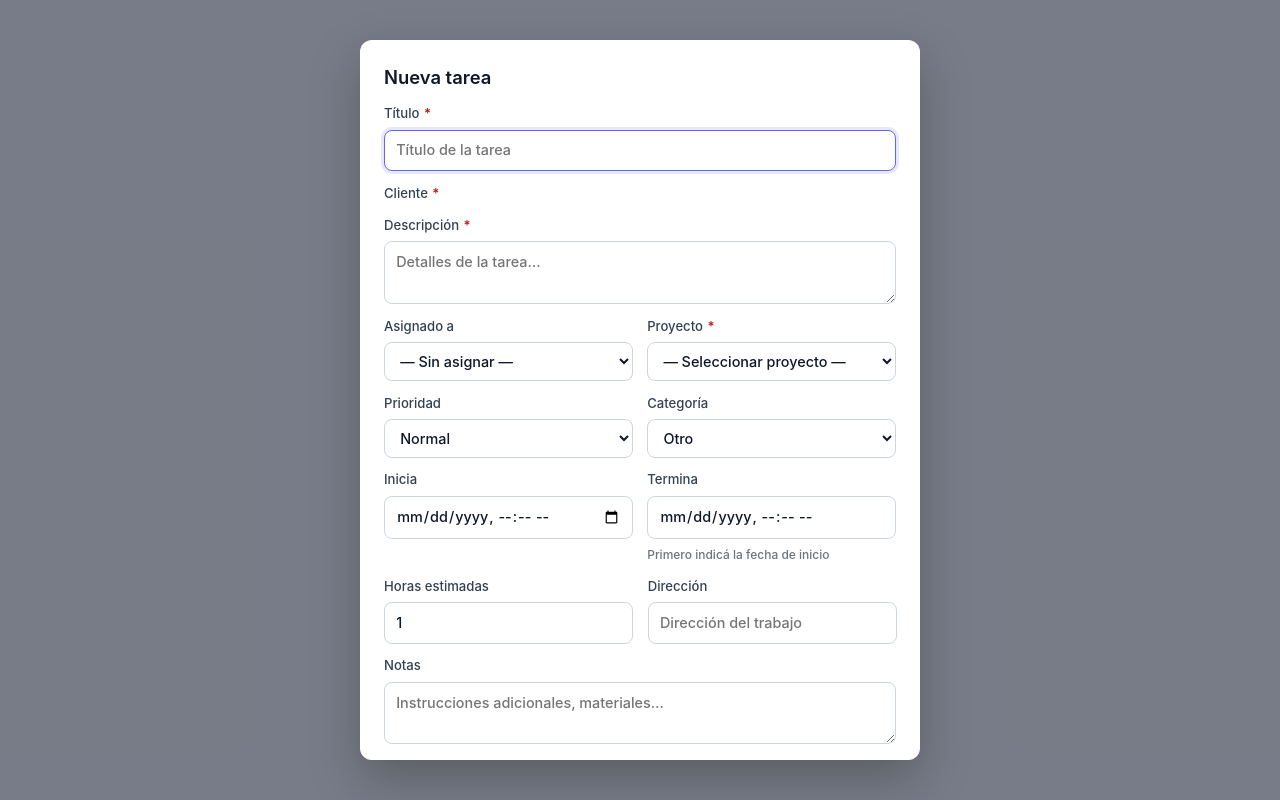
CreateTaskModal — endDate mirror behavior › (a) mirrors endDate = startDate + 1h on EVERY startDate change, not just the first
Note: First change — sets 09:00, should mirror endDate to 10:00
Type "2025-06-01T09:00" into the field labelled "Inicia" at (508, 517), box x1=384 y1=496 x2=633 y2=539
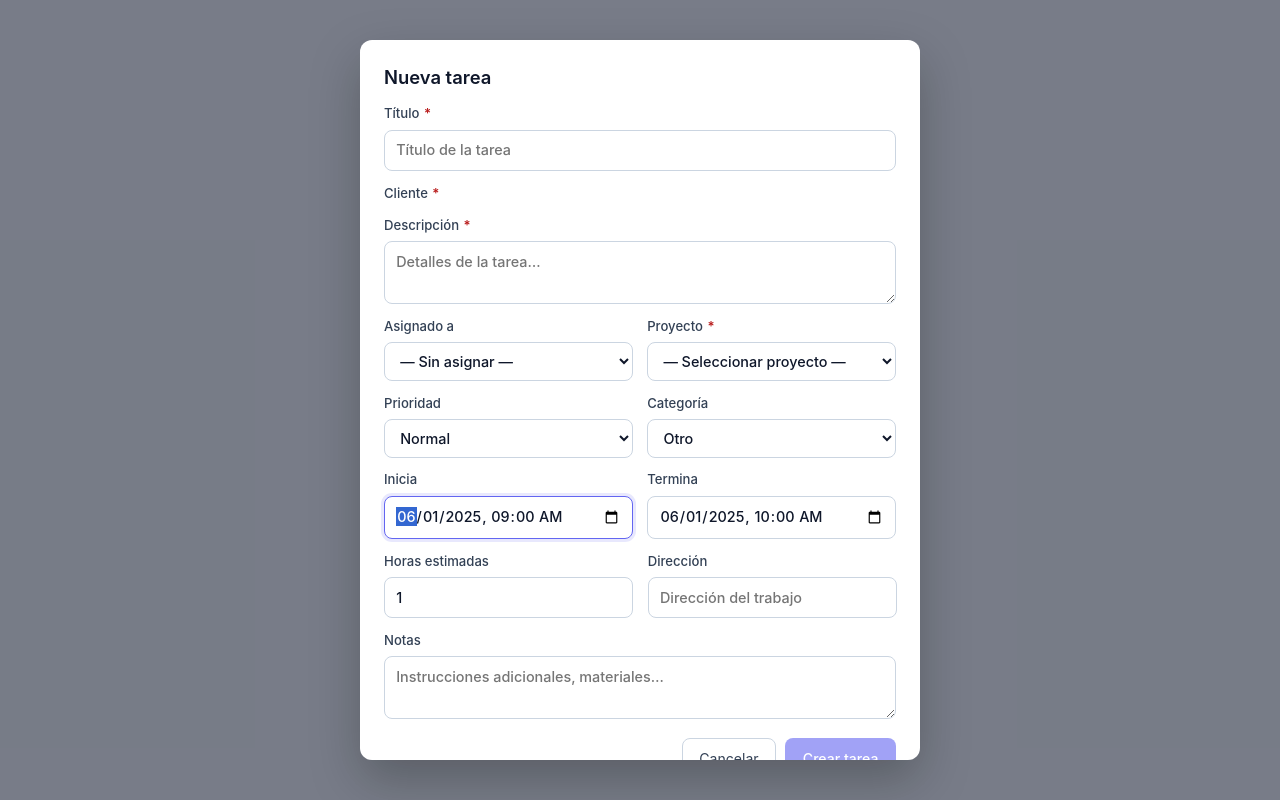
Now the field labelled "Termina" holds "2025-06-01T10:00", box x1=647 y1=496 x2=896 y2=539
Note: Second change — sets 14:00, should mirror endDate to 15:00 (NOT stuck at 10:00)
Replace the text in the field labelled "Inicia" with "2025-06-01T14:00" at (508, 517), box x1=384 y1=496 x2=633 y2=539
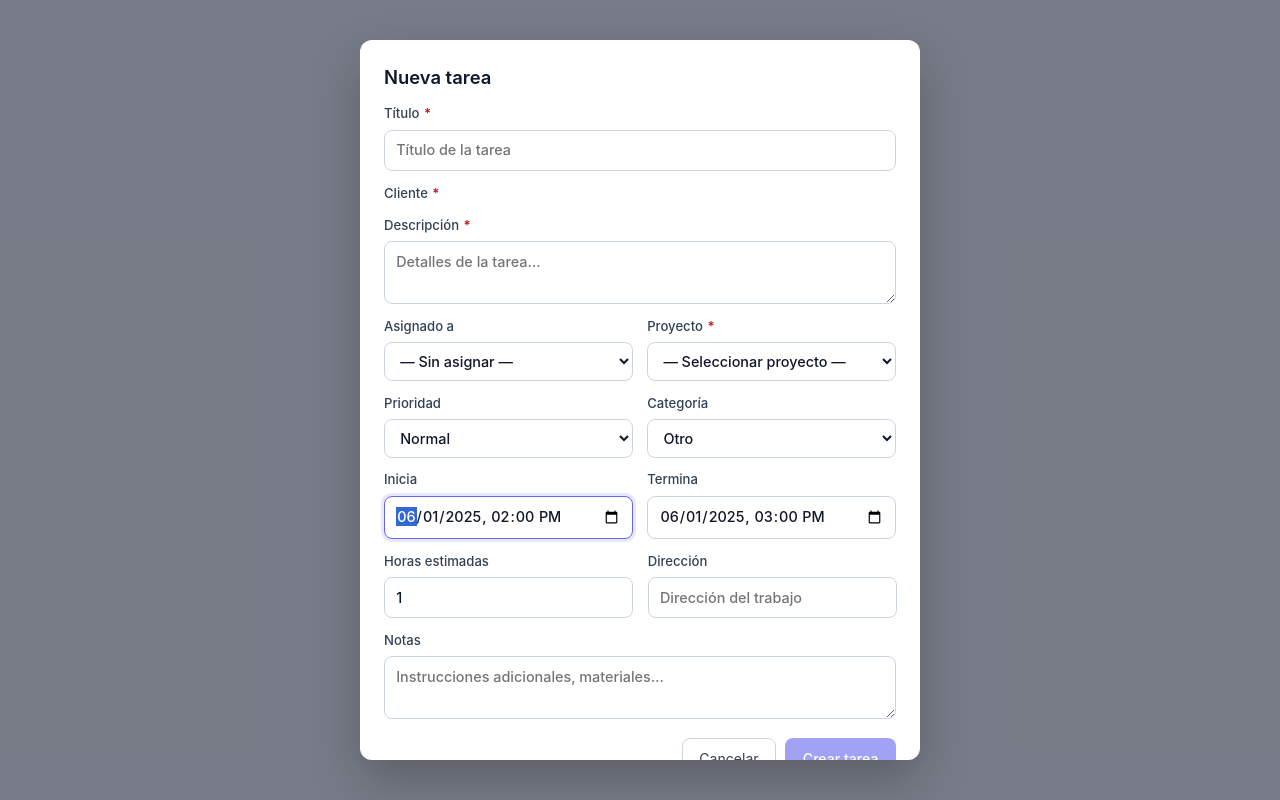
Now the field labelled "Termina" holds "2025-06-01T15:00", box x1=647 y1=496 x2=896 y2=539
